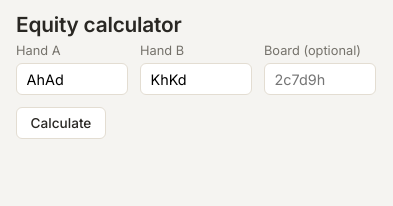
EquityCalculator › calculates and shows each hand equity on click
Click the button "Calculate" at [61, 123], box [16, 107, 106, 139]
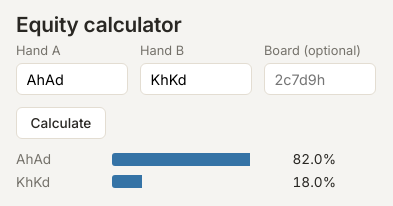
Expected: the text "82.0%" is shown, [288, 151, 336, 167]
Expected: the text "18.0%" is shown, [288, 174, 336, 190]
